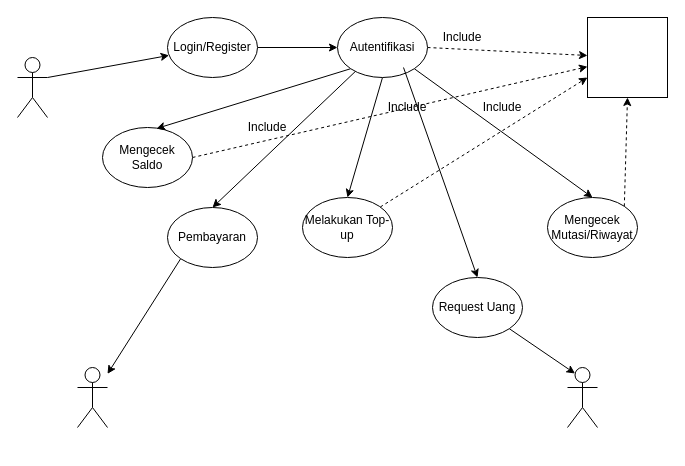
The diagram is 685 pixels wide and 466 high, and some of its shapes have lost their labels. The shapes that lost their labels are listed below. From the top down, each one's box as (x1, y1, x2, y2) in pixels, then its label:
(586, 16, 668, 98): Server
(16, 56, 48, 118): User
(76, 366, 108, 428): Mitra
(566, 366, 598, 428): User Lain
